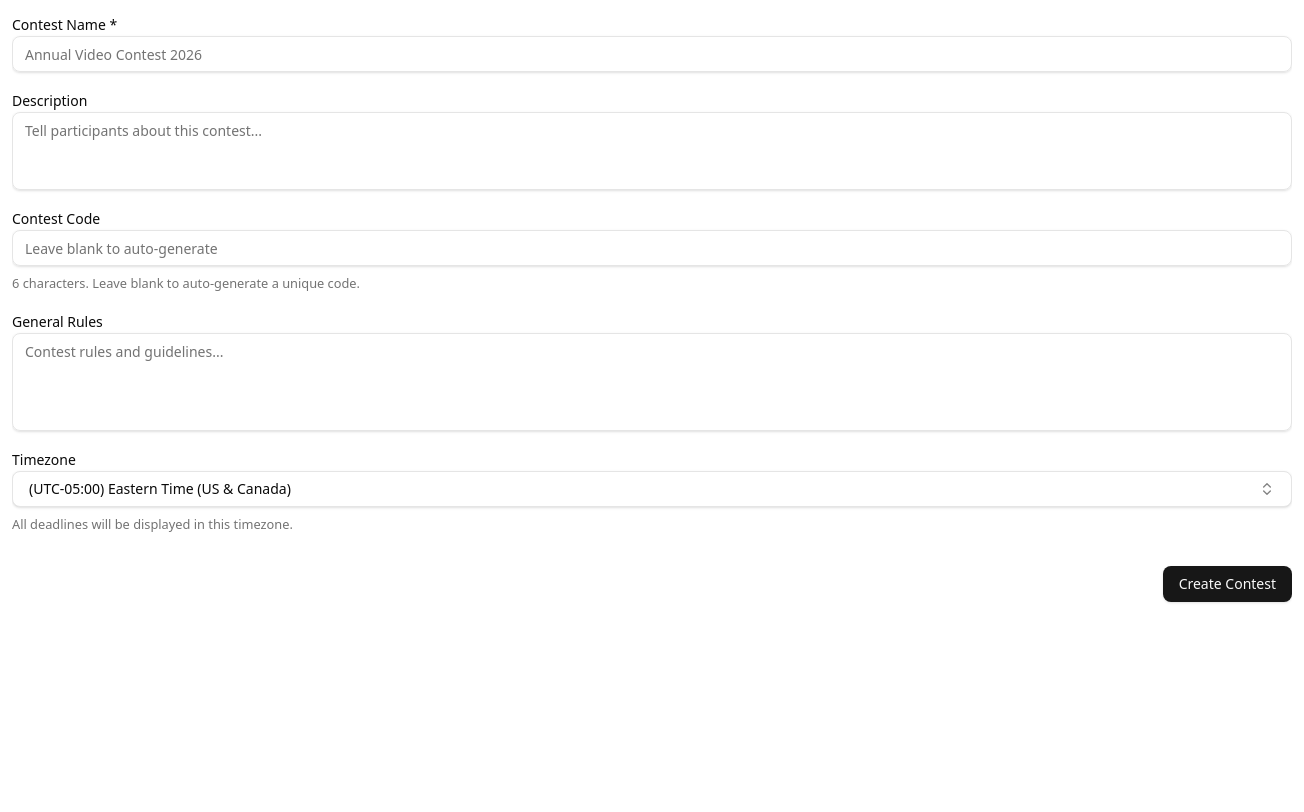
it: CreateContestForm › shows validation error for empty name
The image size is (1304, 812).
Click the button "Create Contest" at (1227, 584), box [1163,566,1292,602]
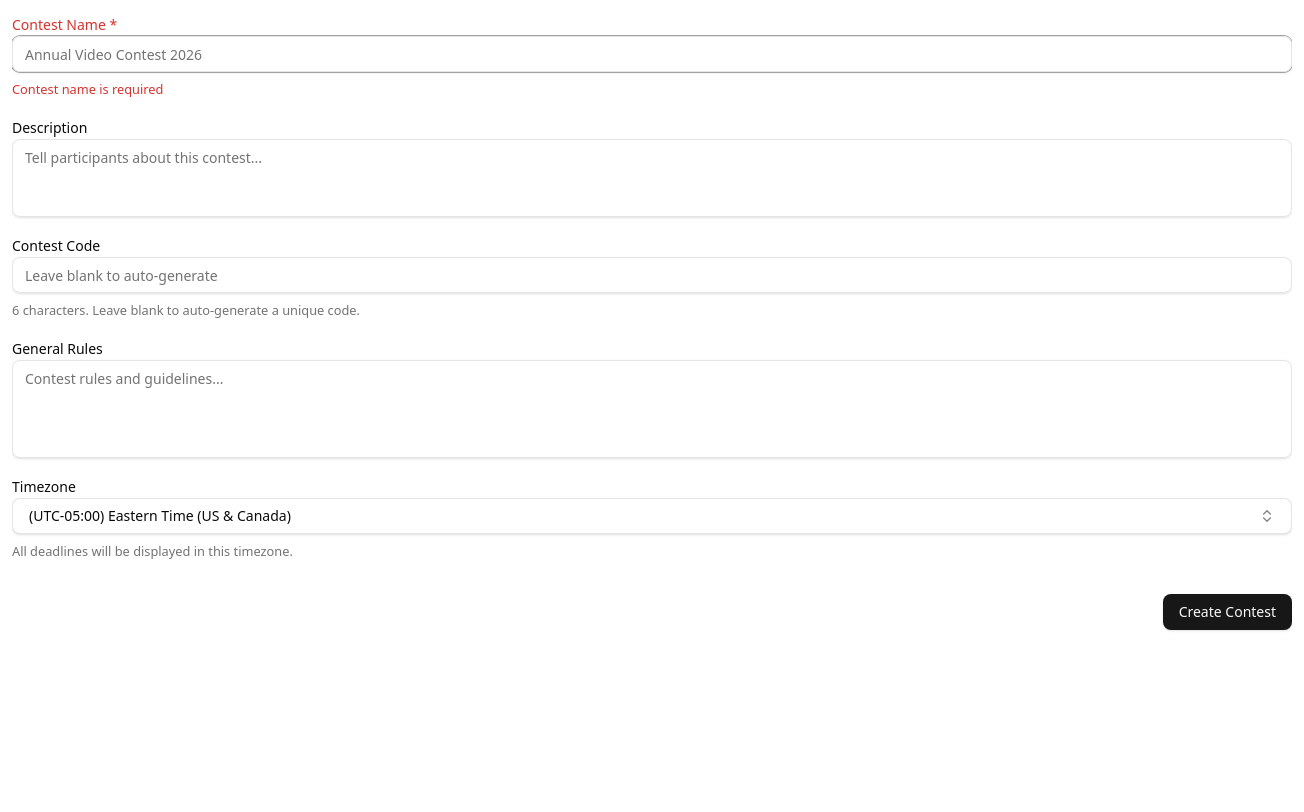
Expected: the text "Contest name is required" is shown, [12,80,164,98]
